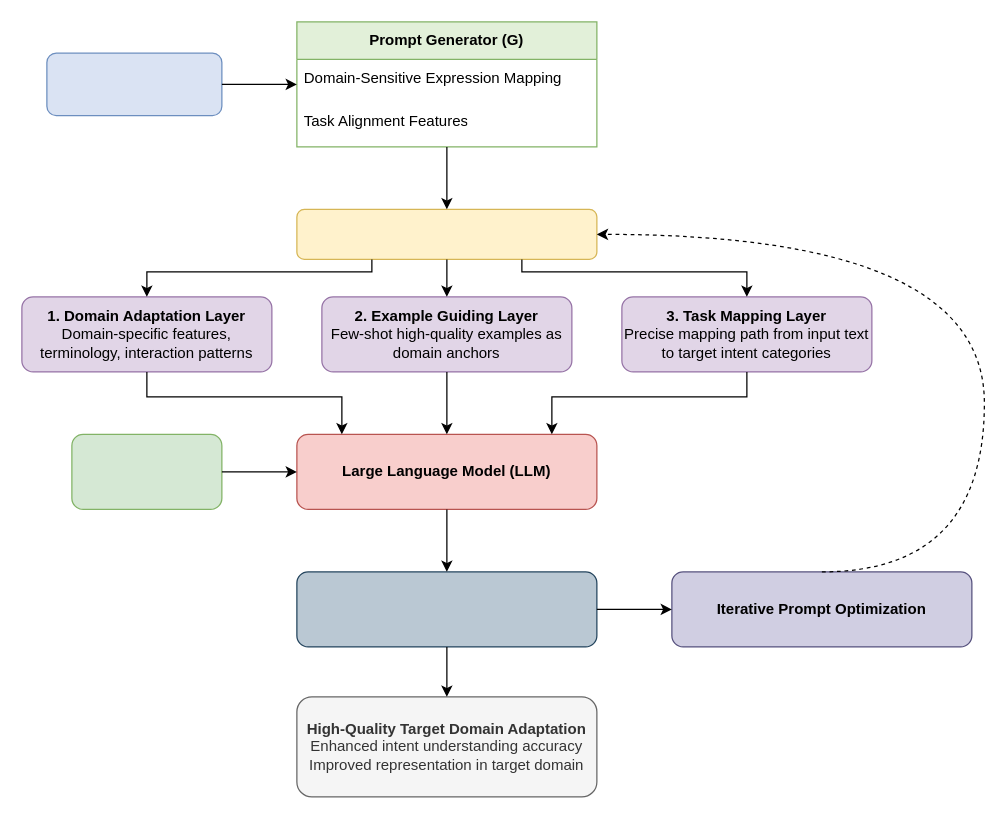
Image size: 1006x819. Some labels were removed from this diagram. Here are the shapes that lost their labels. From the top down, the box of each, then its label:
(46, 52, 222, 116): Source Domain Data
(296, 208, 597, 259): Hierarchical Prompt Template Structure
(71, 433, 222, 509): Target Domain Input
(296, 571, 597, 647): Target Domain Predictions
